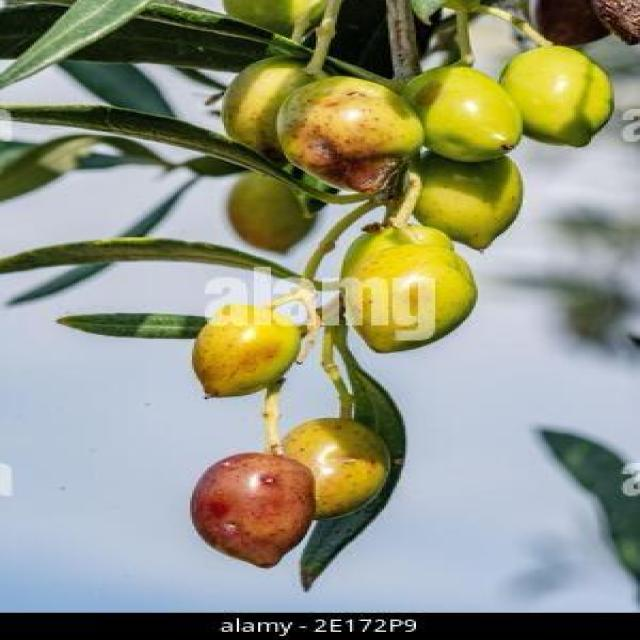Olive Fruit Fly: (277, 76, 422, 195), (190, 453, 314, 566)
